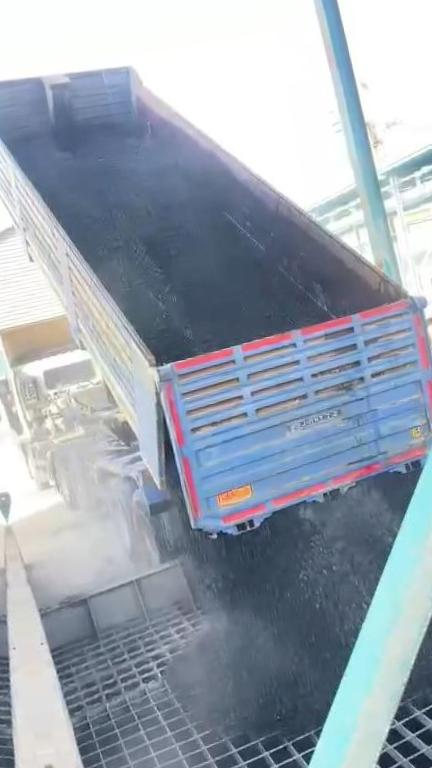gravel: (3, 135, 306, 361), (167, 475, 411, 736), (409, 527, 432, 693)
